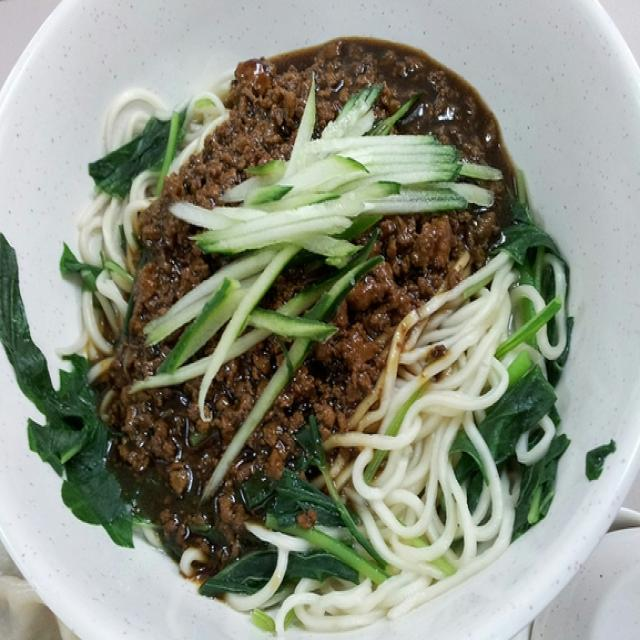面条主食: (41, 20, 603, 620)
